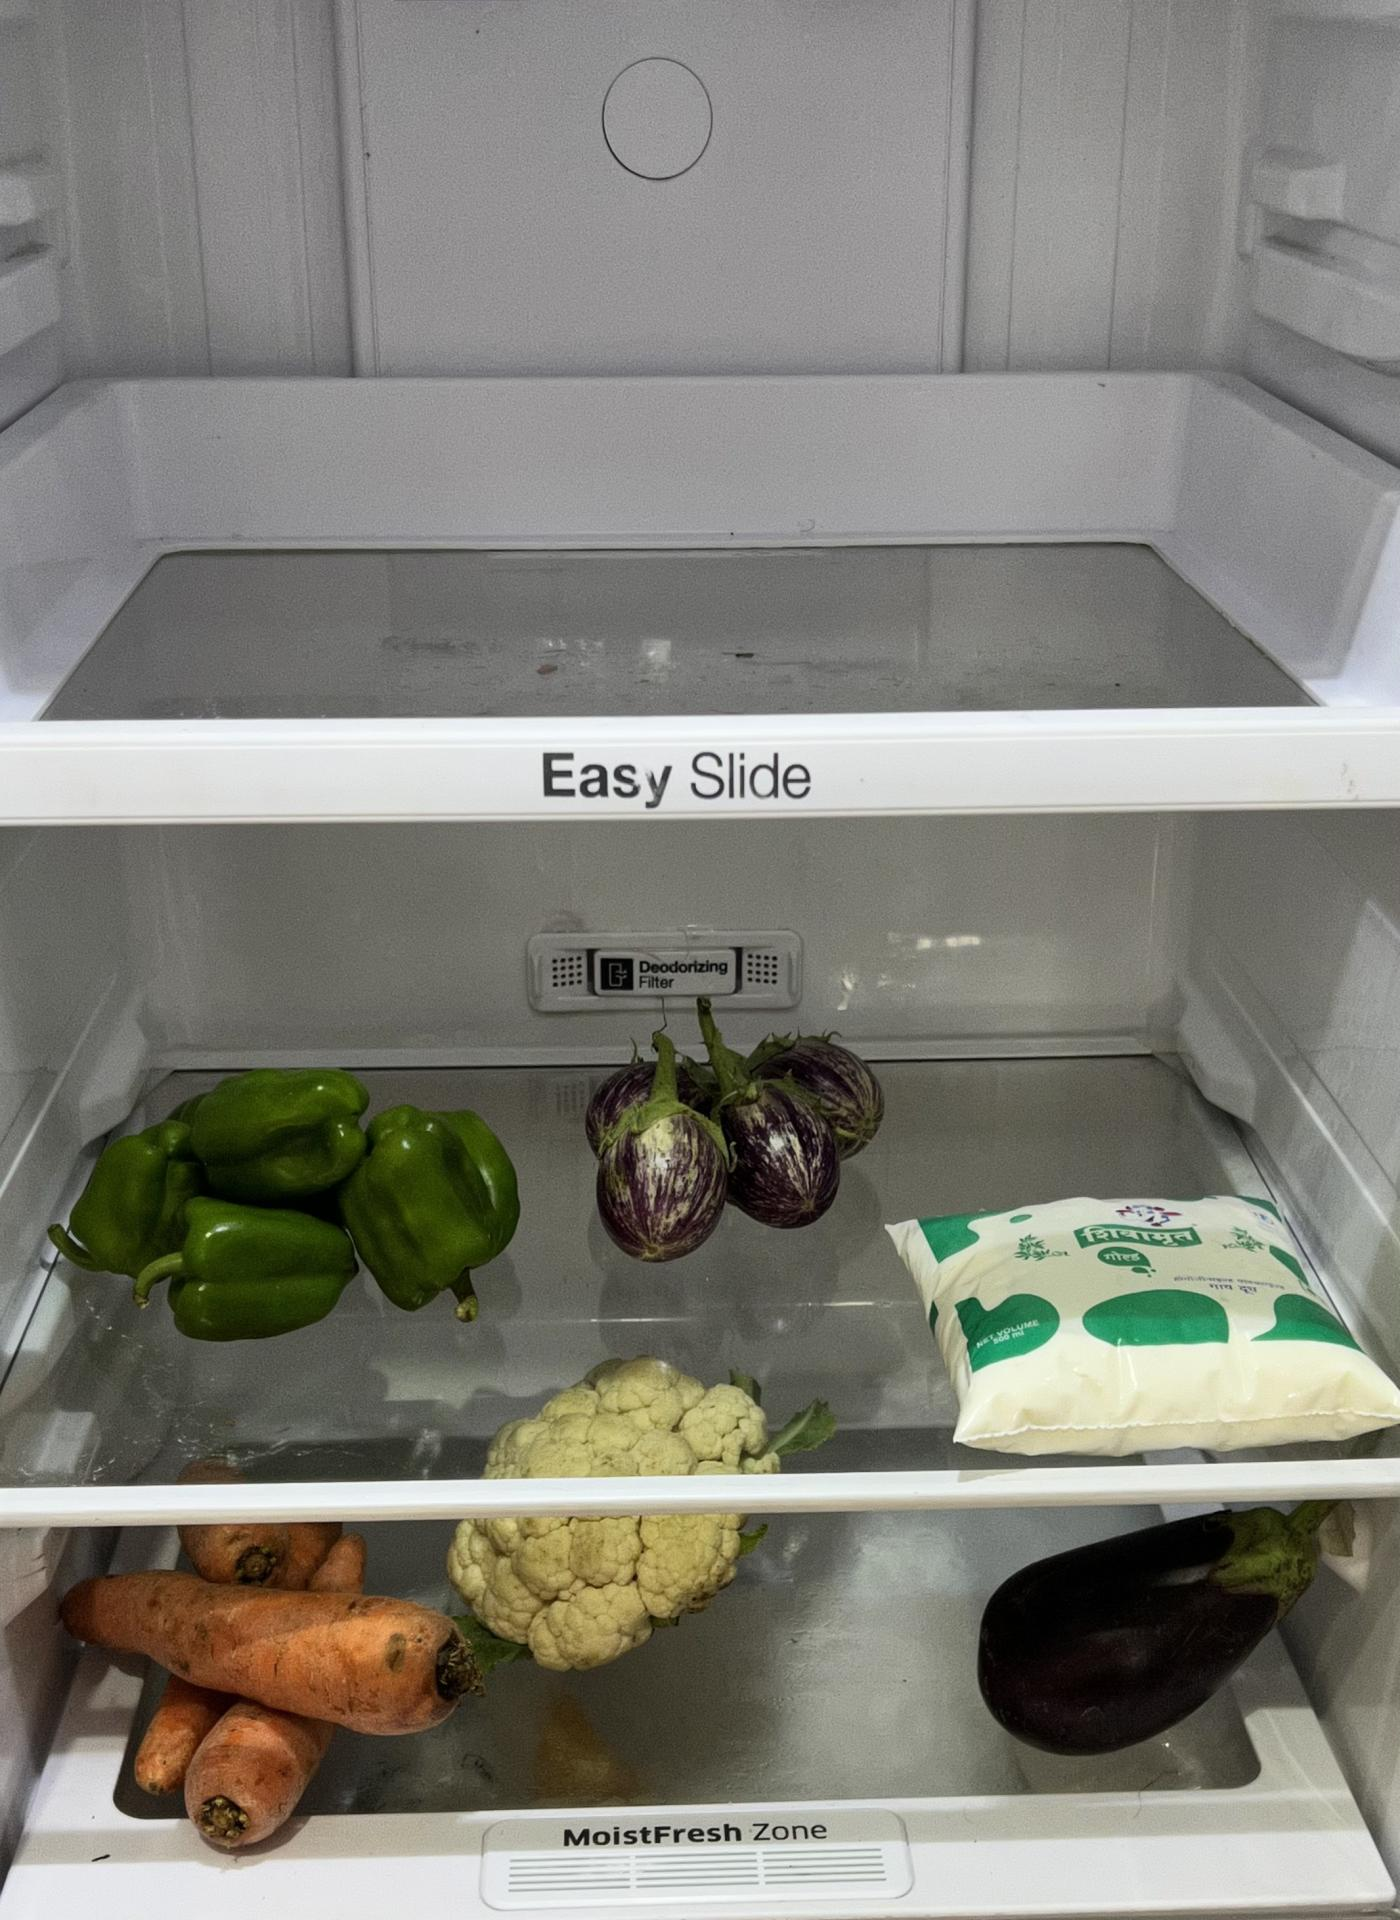capsicum: (72, 1063, 519, 1340)
carrots: (66, 1525, 462, 1847)
cauliflower: (447, 1361, 774, 1662)
milk: (896, 1196, 1399, 1450)
